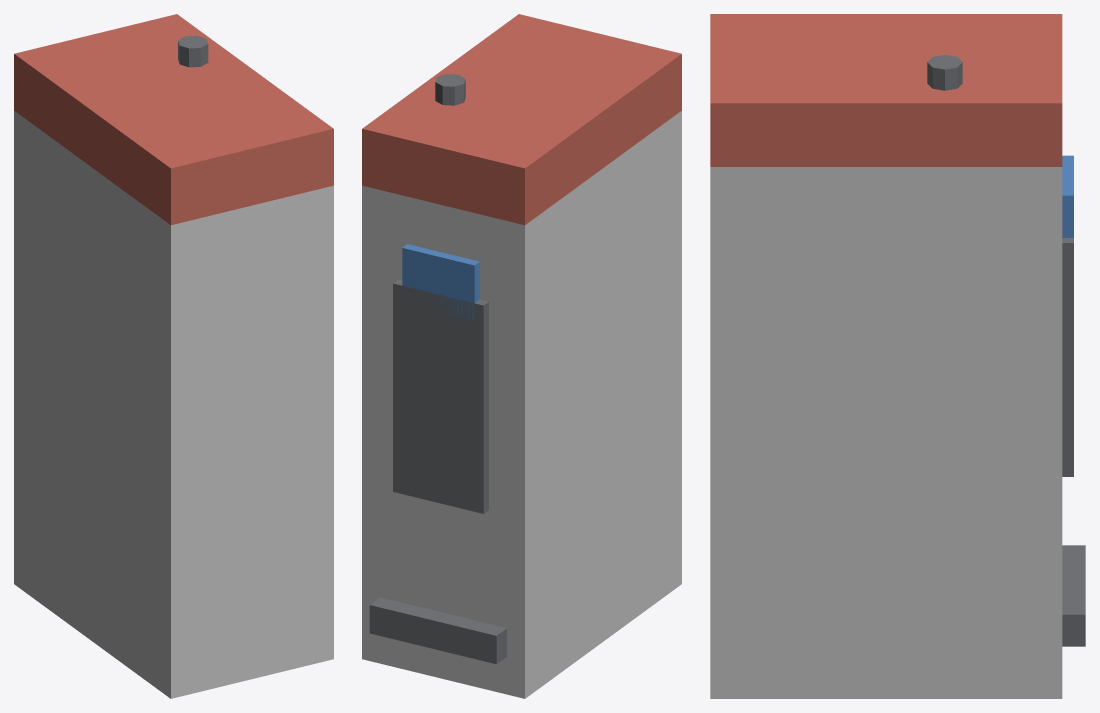
Rendered from eld_cafeteira_cap.glb.
3 views of the same model, side by side, from view 1: azimuth 30°, elevation 25°; view 2: azimuth 150°, elevation 25°; view 3: azimuth 270°, elevation 25° (orthographic). The views are drawn at different scales.
Visible parts, largest first — view 1: ELD_CAFETEIRA_CAP_v01; view 2: ELD_CAFETEIRA_CAP_v01; view 3: ELD_CAFETEIRA_CAP_v01.
Boxes of the visible parts, x1,y1,x2,y2 form: ELD_CAFETEIRA_CAP_v01: (14,14,333,698); ELD_CAFETEIRA_CAP_v01: (362,14,681,698); ELD_CAFETEIRA_CAP_v01: (710,14,1085,698).
Bounding box in the file's own units: 0.18 × 0.58 × 0.32.
